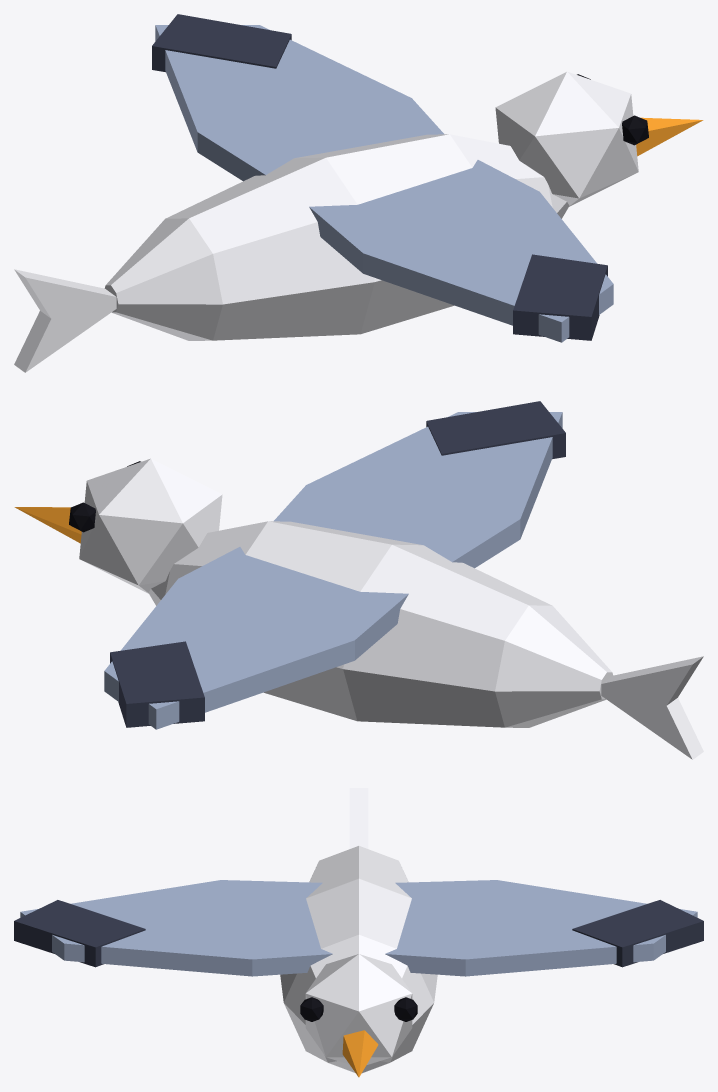
The model's file is gull.glb.
3 renders of one model, top to bottom at view 1: azimuth 30°, elevation 25°; view 2: azimuth 150°, elevation 25°; view 3: azimuth 270°, elevation 25°, orthographic. The views are drawn at different scales.
Visible parts, largest first — view 1: Body, Wing.001, Wing; view 2: Body, Wing, Wing.001; view 3: Body, Wing.001, Wing.
Boxes of the visible parts, left/top/right/bottom form: Body: left=14, top=71, right=703, bottom=372; Wing.001: left=263, top=131, right=613, bottom=342; Wing: left=152, top=14, right=479, bottom=211; Body: left=14, top=458, right=703, bottom=759; Wing: left=104, top=517, right=453, bottom=729; Wing.001: left=240, top=401, right=565, bottom=598; Body: left=280, top=788, right=437, bottom=1077; Wing.001: left=14, top=880, right=409, bottom=976; Wing: left=309, top=880, right=703, bottom=976.
Bounding box in the file's own units: 1.05 × 0.3 × 1.1.
